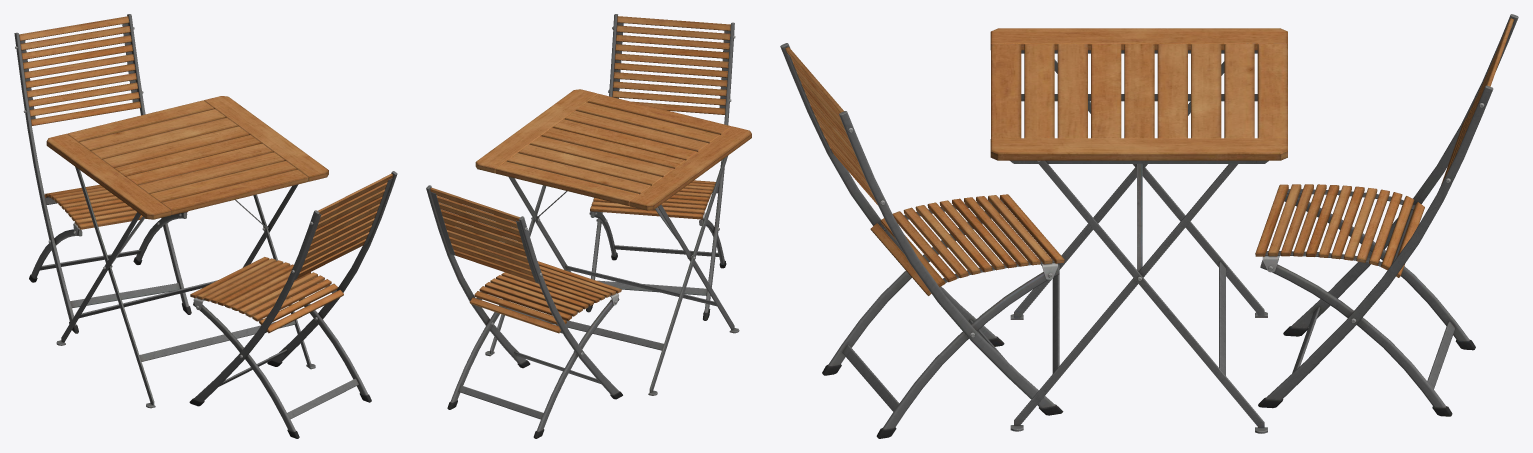
Rendered from outdoor_table_chair_set_01.glb.
3 renders of one model, left to right at view 1: azimuth 30°, elevation 25°; view 2: azimuth 150°, elevation 25°; view 3: azimuth 270°, elevation 25°, orthographic. The views are drawn at different scales.
Parts seen in each view (by area): view 1: outdoor_table_chair_set_01_table, outdoor_table_chair_set_01_chair_02, outdoor_table_chair_set_01_chair_01; view 2: outdoor_table_chair_set_01_table, outdoor_table_chair_set_01_chair_02, outdoor_table_chair_set_01_chair_01; view 3: outdoor_table_chair_set_01_table, outdoor_table_chair_set_01_chair_01, outdoor_table_chair_set_01_chair_02.
Boxes of the visible parts, left/top/right/bottom form: outdoor_table_chair_set_01_table: left=46, top=96, right=328, bottom=408; outdoor_table_chair_set_01_chair_02: left=14, top=14, right=191, bottom=333; outdoor_table_chair_set_01_chair_01: left=189, top=171, right=397, bottom=438; outdoor_table_chair_set_01_table: left=475, top=89, right=751, bottom=395; outdoor_table_chair_set_01_chair_02: left=426, top=185, right=622, bottom=438; outdoor_table_chair_set_01_chair_01: left=586, top=14, right=735, bottom=320; outdoor_table_chair_set_01_table: left=990, top=28, right=1287, bottom=433; outdoor_table_chair_set_01_chair_01: left=780, top=43, right=1064, bottom=438; outdoor_table_chair_set_01_chair_02: left=1255, top=14, right=1518, bottom=416.
Bounding box in the file's own units: 0.7417 × 0.8586 × 1.72.
Materials: 2 (2 with a texture image).
